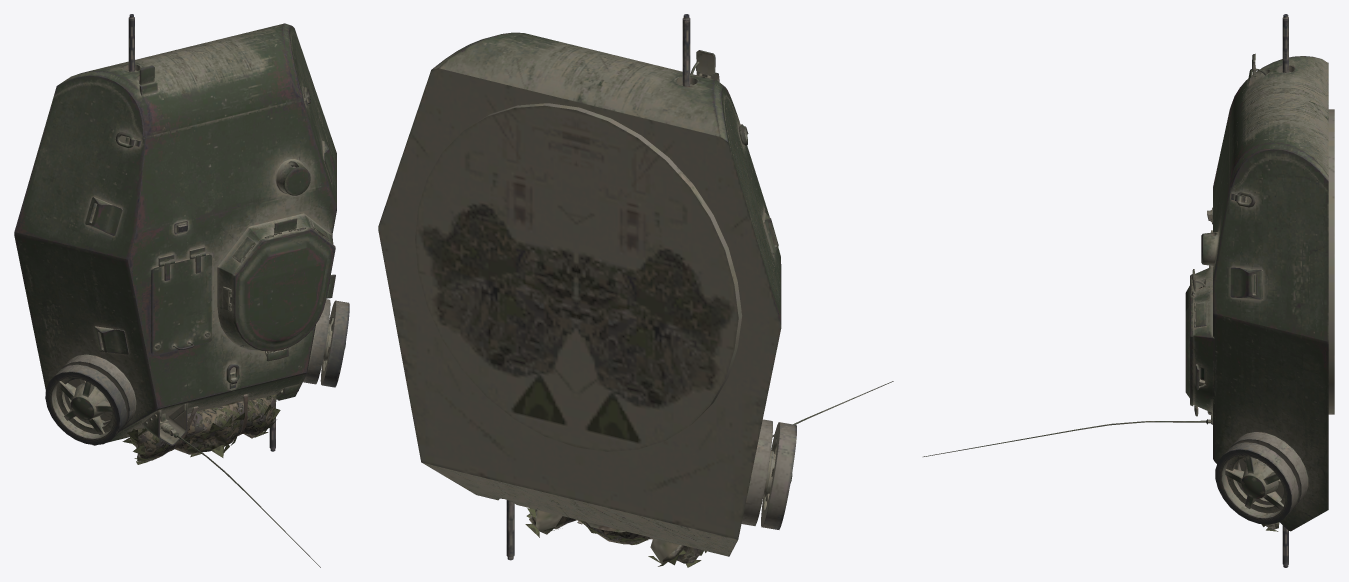
File: Turret_02.glb
The picture shows the model from 3 angles, left to right: view 1: azimuth 30°, elevation 25°; view 2: azimuth 150°, elevation 25°; view 3: azimuth 270°, elevation 25°; orthographic projection. The views are drawn at different scales.
Parts seen in each view (by area): view 1: set_0_group_0; view 2: set_0_group_0; view 3: set_0_group_0.
Boxes of the visible parts, left/top/right/bottom form: set_0_group_0: left=14, top=14, right=349, bottom=567; set_0_group_0: left=378, top=14, right=893, bottom=567; set_0_group_0: left=923, top=14, right=1334, bottom=567.
Size of the model in its own units: 2.62 by 3.64 by 2.82.
1 material, 1 textured.
